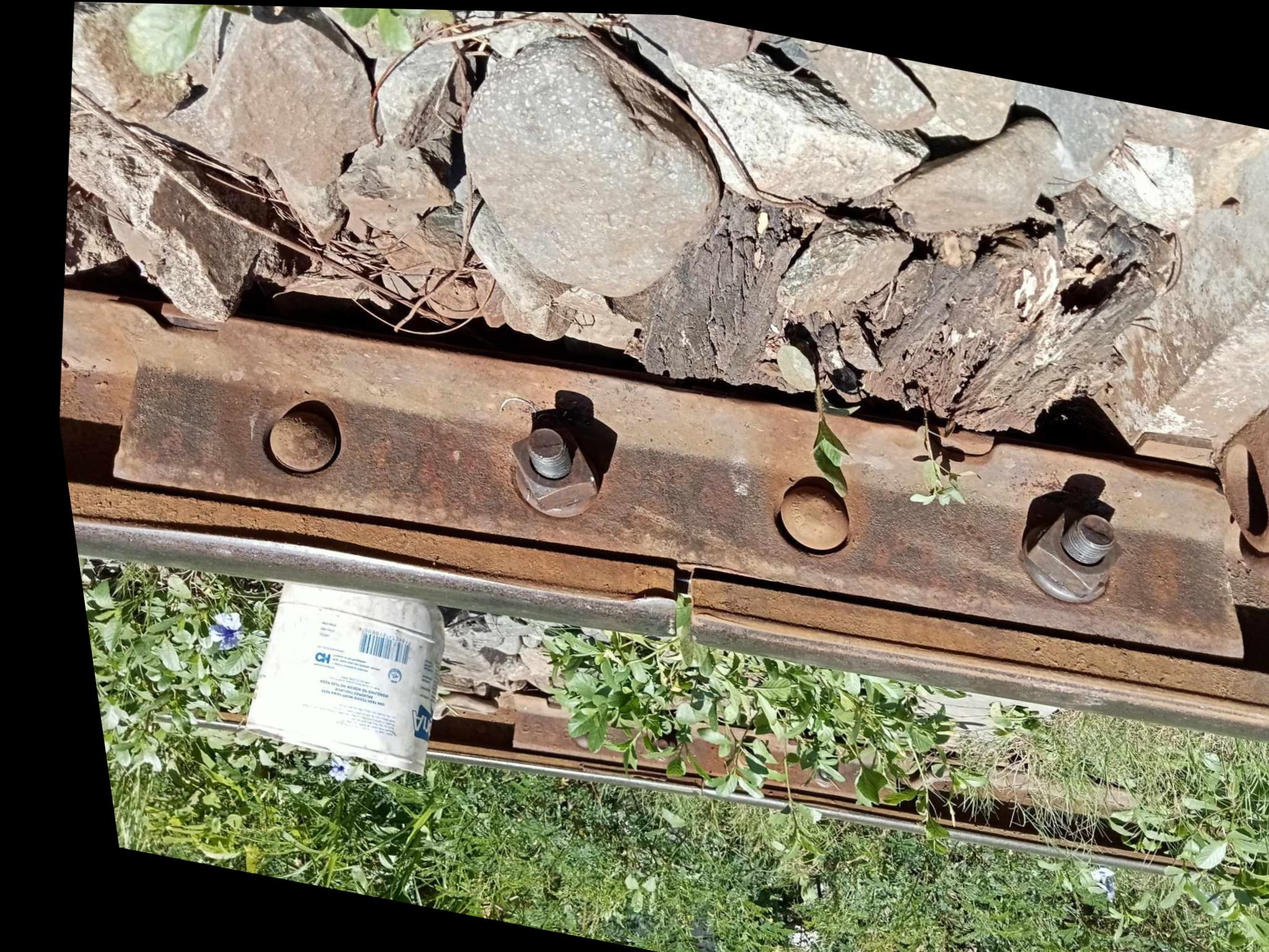person: (561, 513, 766, 678), (636, 746, 723, 819)
